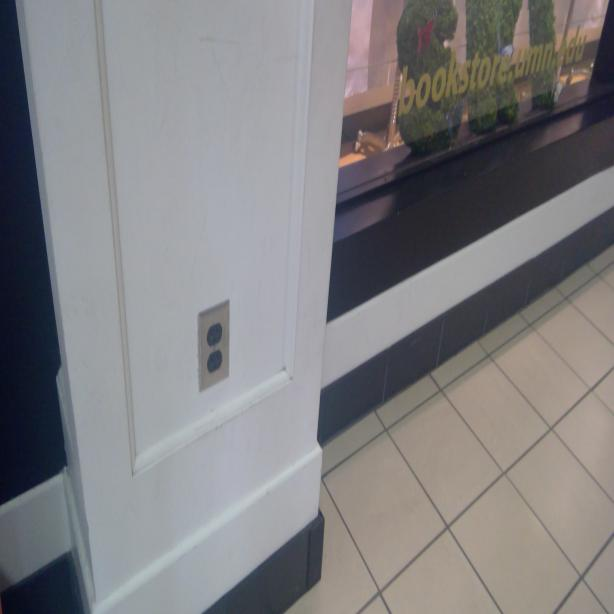typeb: (207, 323, 224, 348), (208, 351, 222, 372)
